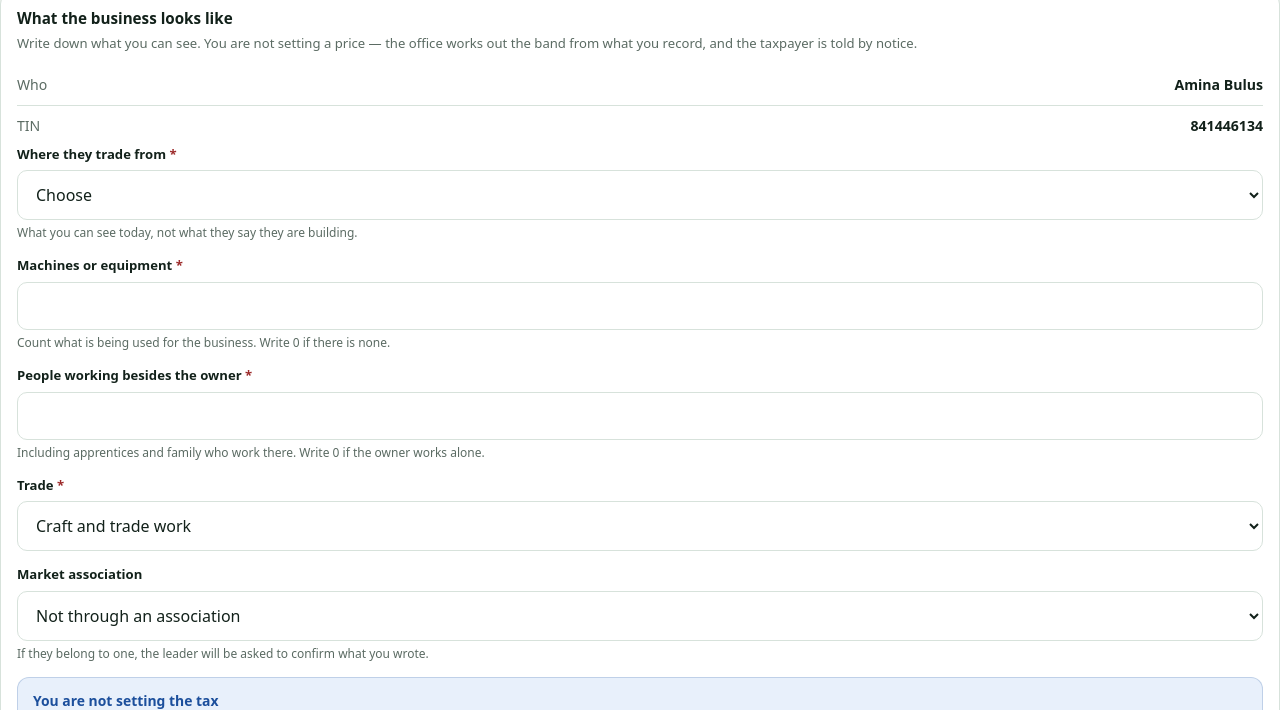
Test: writing down a stall › works out the band on the phone, as the facts are entered
This screenshot has width=1280, height=710.
Expected: the text "Size from what you have written" is not shown
Step 1. Select "Lock-up shop" in the dropdown labelled "Where they trade from *" → (640, 195), box 17,170 -> 1263,220
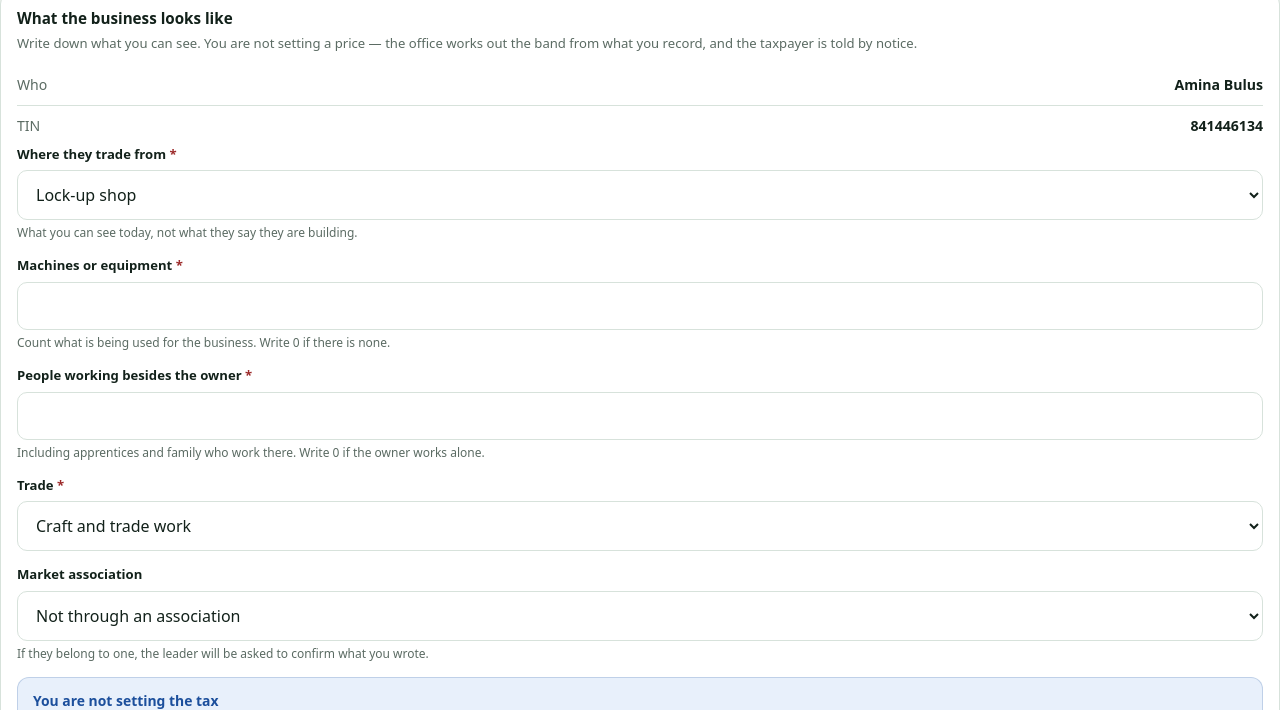
Step 2. Type "3" into the number field labelled "Machines or equipment *" → (640, 306), box 17,282 -> 1263,330
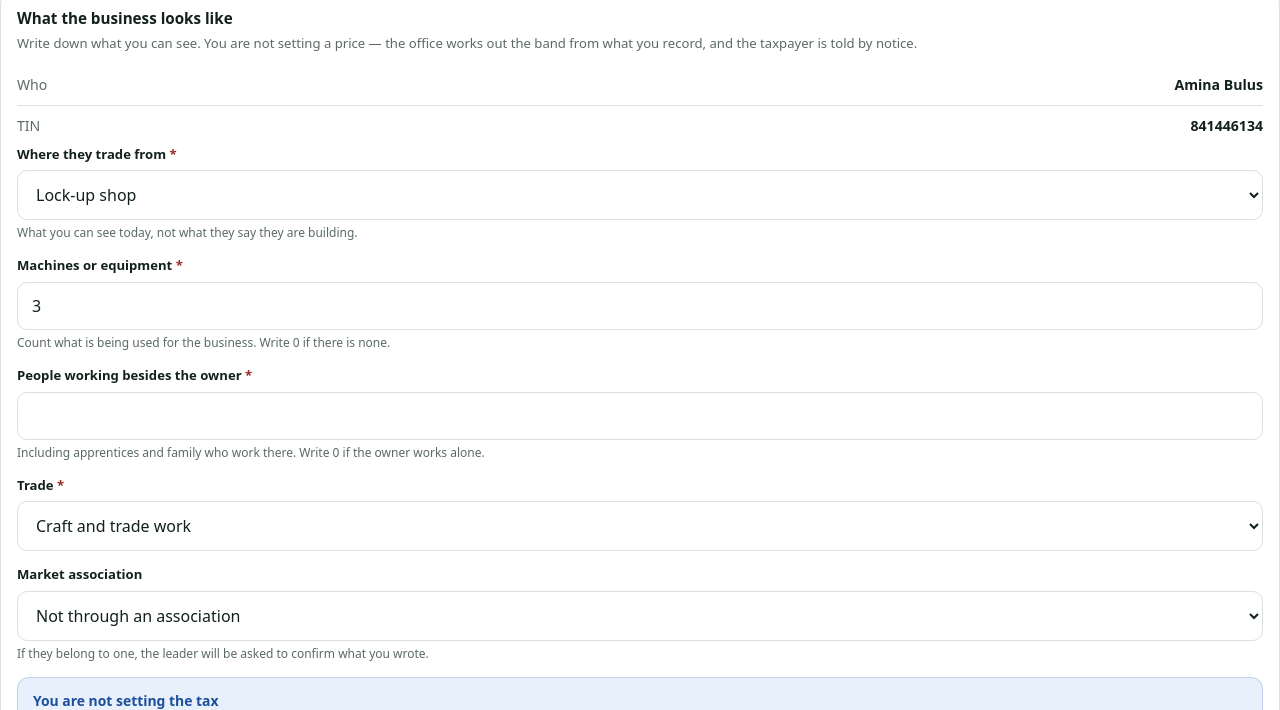
Step 3. Type "2" into the number field labelled "People working besides the owner *" → (640, 416), box 17,392 -> 1263,440
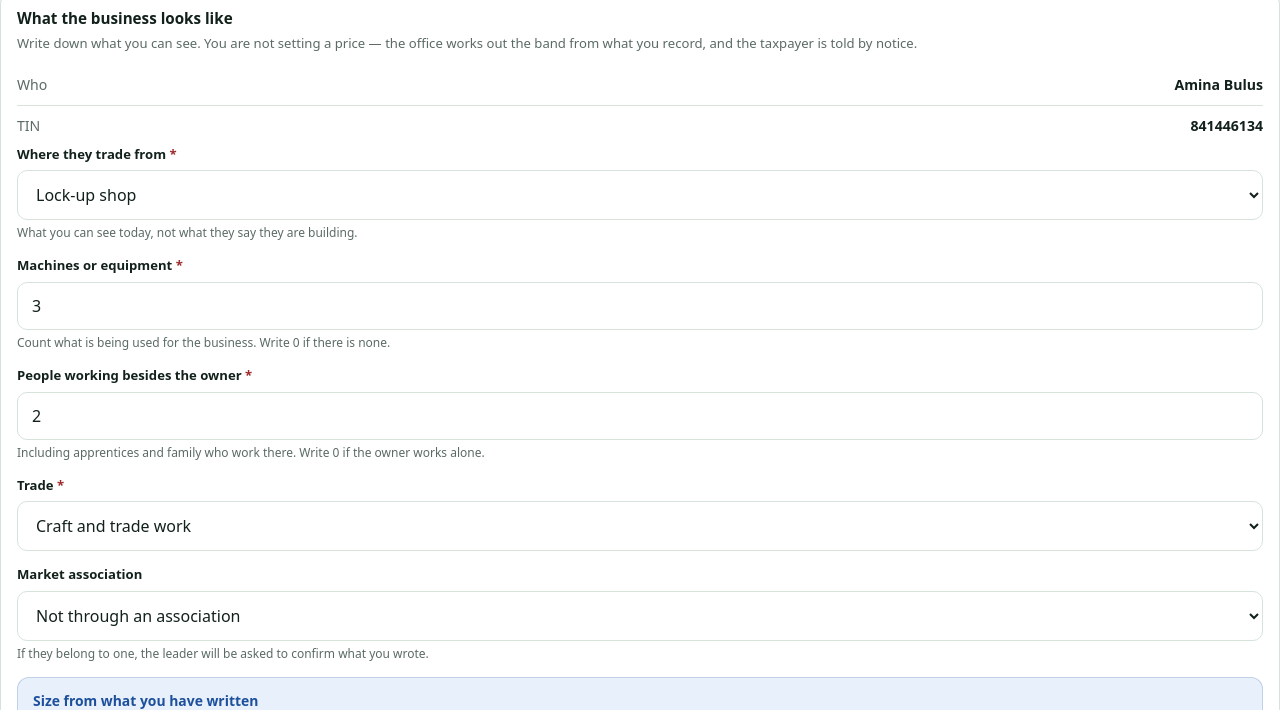
Result: the text "Size from what you have written" is shown at 33,691 -> 258,709
Step 4. Select "Building or yard" in the dropdown labelled "Where they trade from *" → (640, 195), box 17,170 -> 1263,220
(page scrolled)
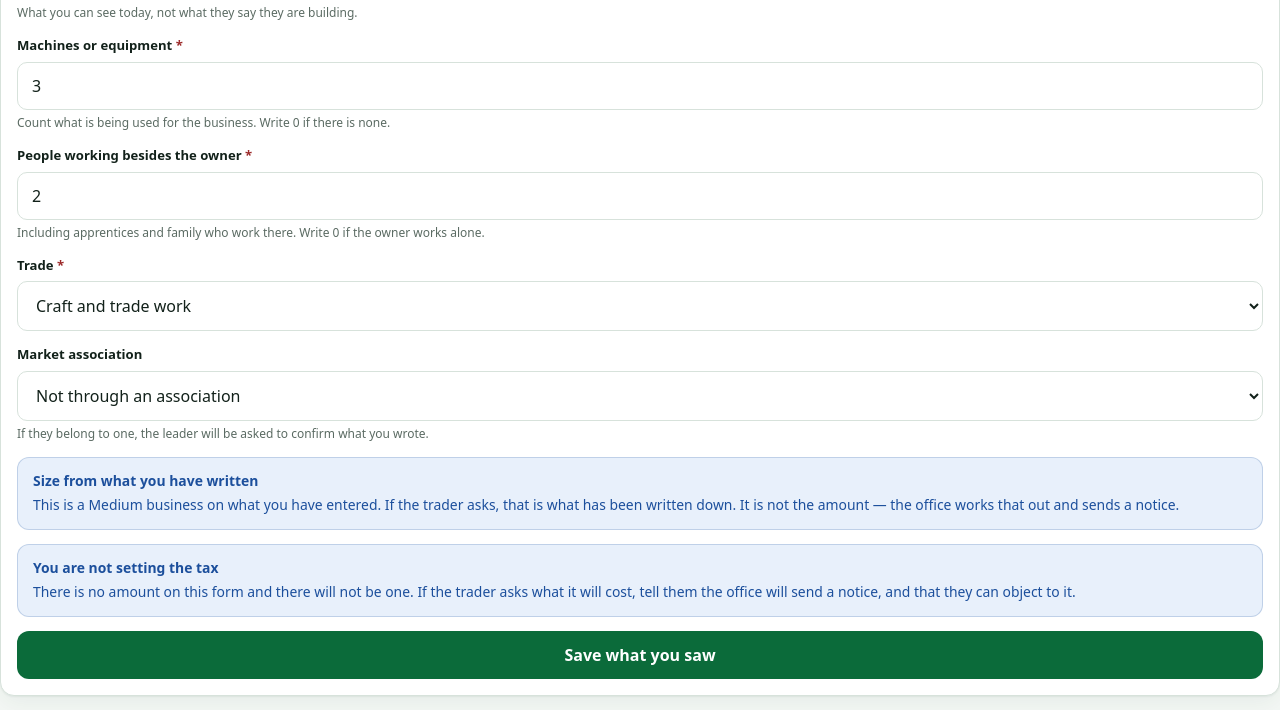
Result: the text "This is a Medium business" is shown at 33,495 -> 1179,514
